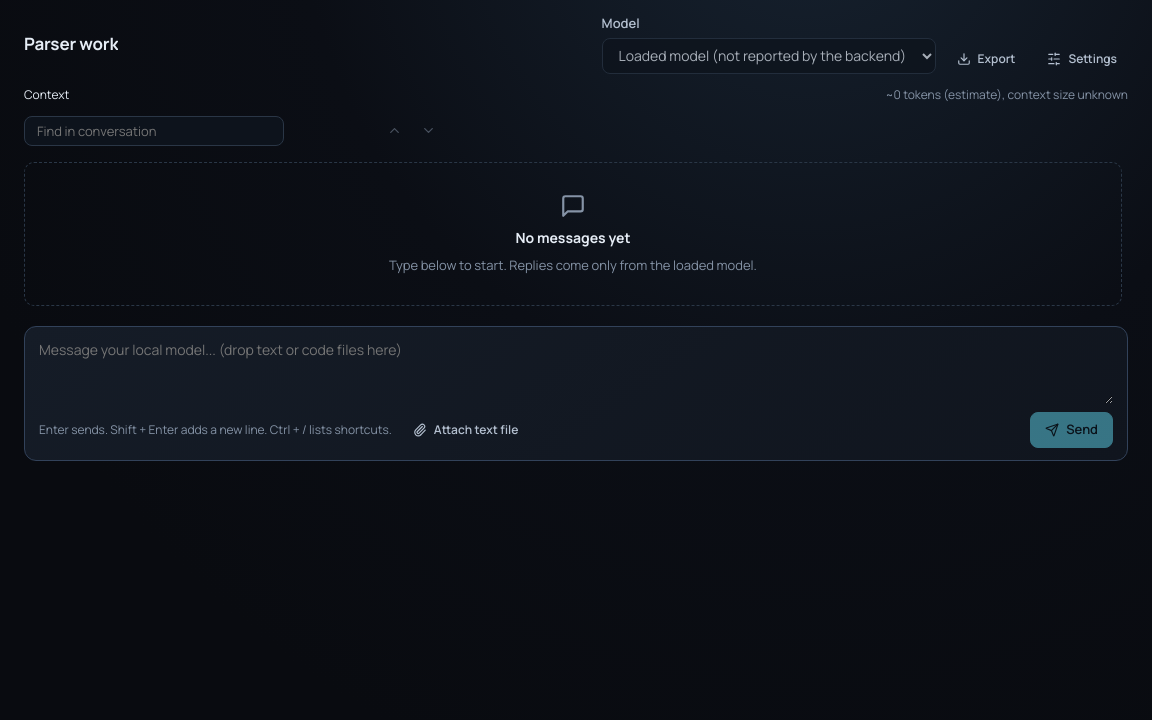
Test case: ChatPanel export › writes nothing when the save dialog is cancelled
Click the button "Export" at (986, 58), box [946,44,1026,74]
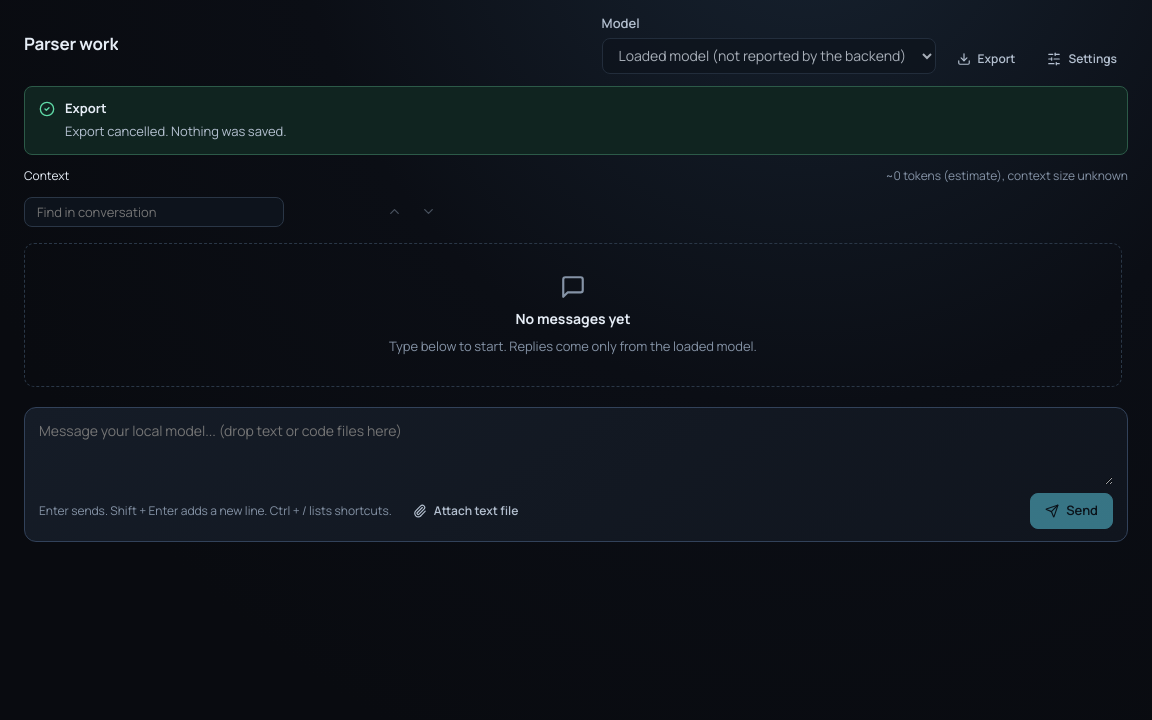
Now the text "Export cancelled. Nothing was saved." is shown, box [65,122,287,140]
